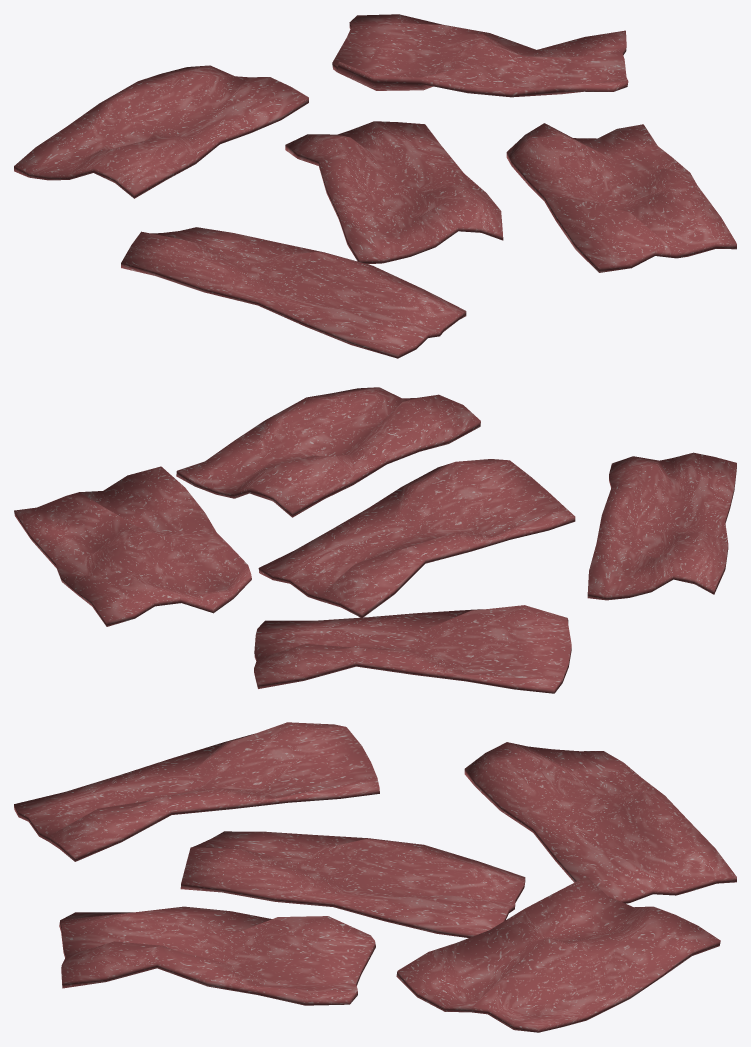
Rendered from yakiniku_01_t.glb.
The picture shows the model from 3 angles, top to bottom: view 1: azimuth 30°, elevation 25°; view 2: azimuth 150°, elevation 25°; view 3: azimuth 270°, elevation 25°; orthographic projection. The views are drawn at different scales.
Parts seen in each view (by area): view 1: yakiniku; view 2: yakiniku; view 3: yakiniku.
Boxes of the visible parts, x1,y1,x2,y2 form: yakiniku: (14,14,736,358); yakiniku: (14,387,736,693); yakiniku: (14,722,736,1032).
Size of the model in its own units: 0.1808 by 0.0133 by 0.1797.
1 material, 1 textured.
